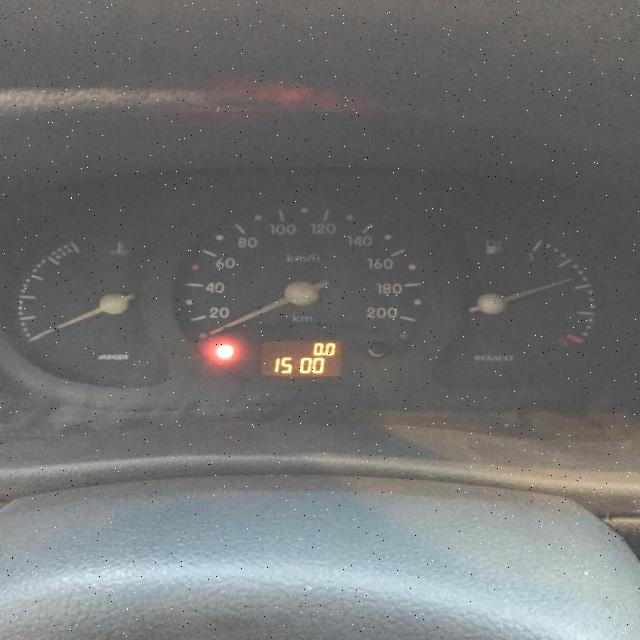odometer: (253, 337, 345, 380)
